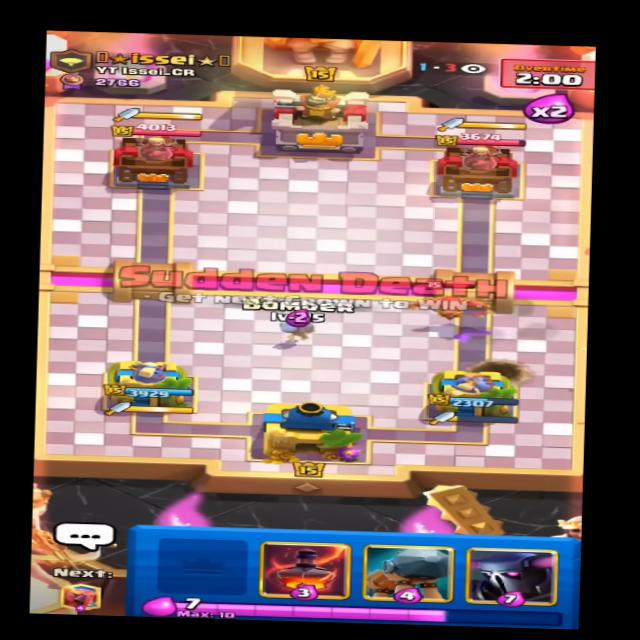phoenix: (406, 280, 499, 321)
